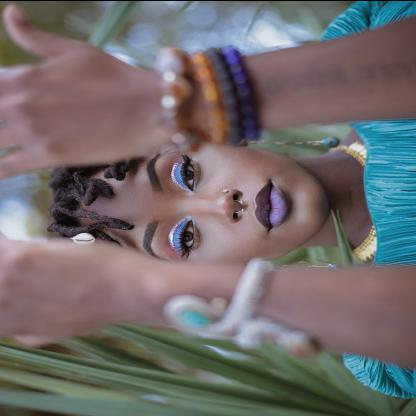Eye: (168, 217, 200, 257), (172, 154, 202, 190)
Mouth: (249, 174, 293, 236)
Nose: (195, 186, 245, 222)
